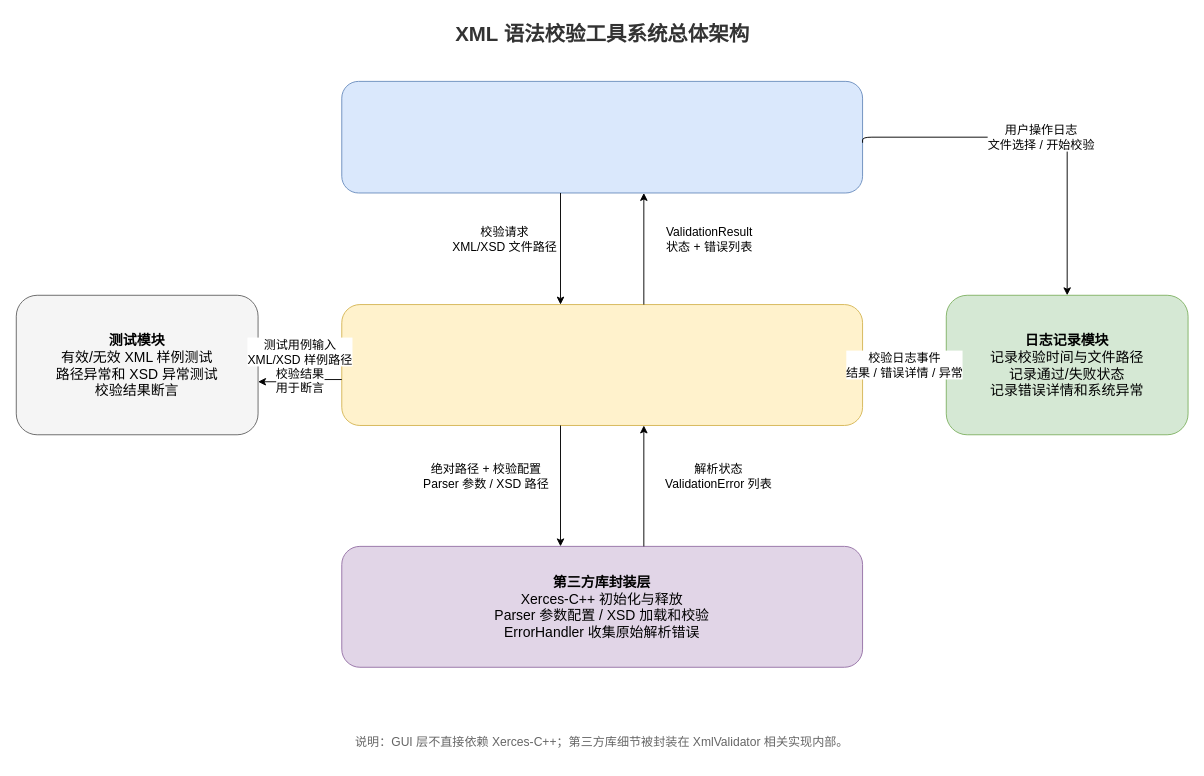
This 1204x776 diagram has some shape labels left out. The shapes that lost their labels are listed below. From the top down, each one's centre as x and y in pixels, then its label:
At [602,136]: "GUI 界面层 文件选择 / 按钮控制 校验状态提示 错误表格展示 / 异常弹窗".
At [602,364]: "业务逻辑层 输入路径检查与绝对路径转换 XmlValidator 校验流程控制 ValidationResult 结果封装".
